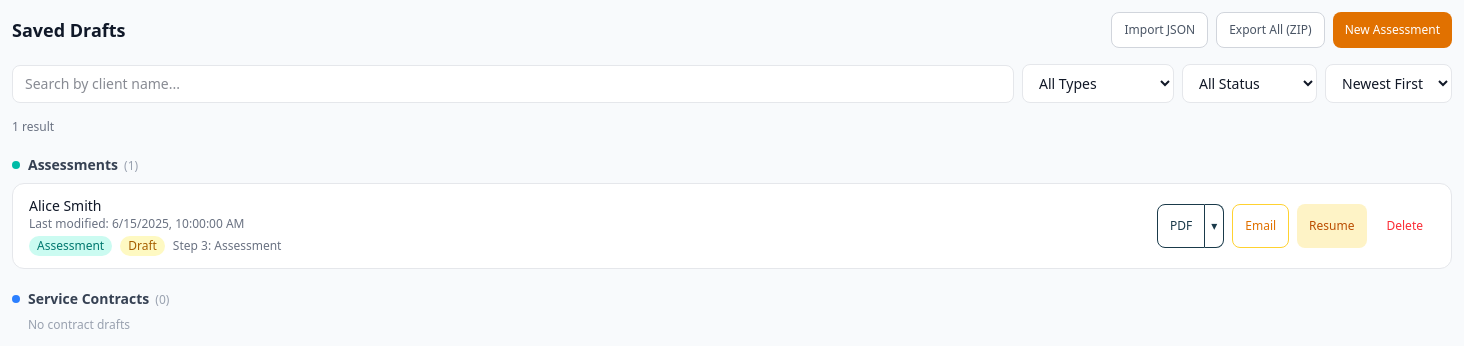
Scenario: DraftManager › delete confirmation › shows Confirm/Cancel buttons when Delete is clicked
What coordinates should you click on to do the following:
click the button "Delete"
I would click on:
 (1405, 226)
Its box is [1374, 204, 1435, 248].
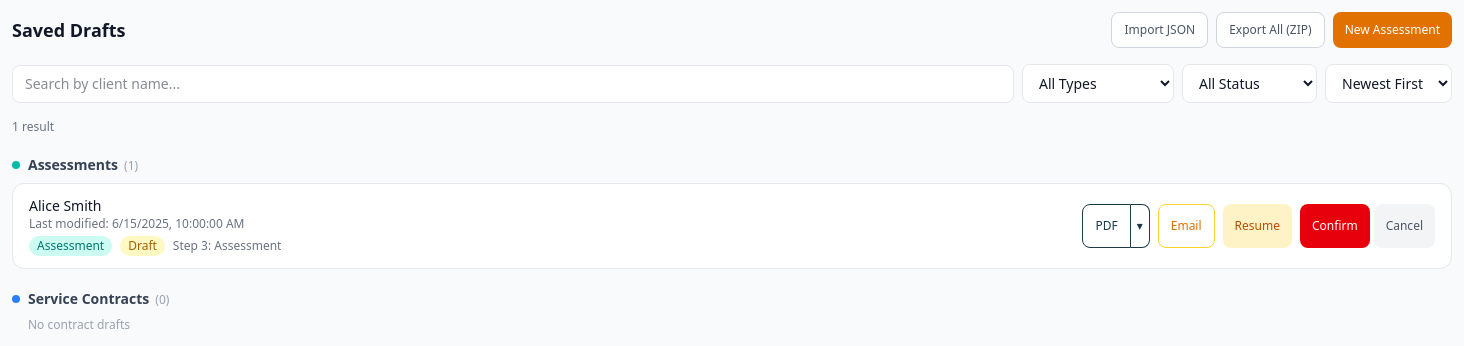
Result: the button "Confirm" is shown at [1300, 204, 1370, 248]
Result: the button "Cancel" is shown at [1374, 204, 1435, 248]
